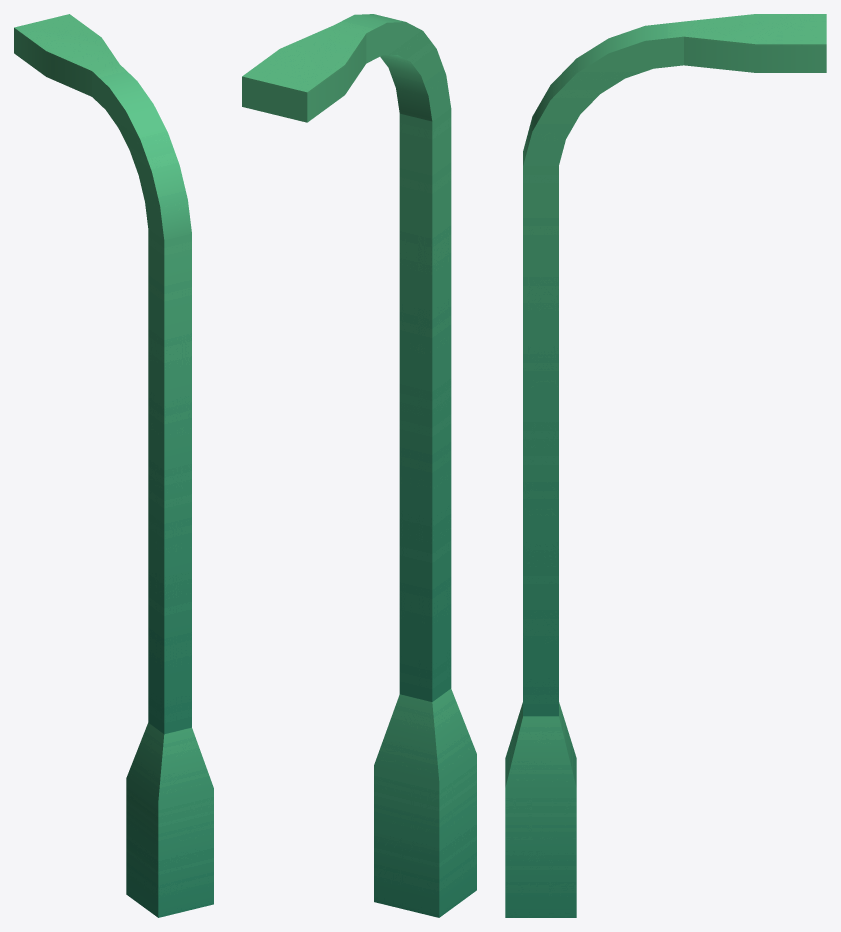
The model's file is light_curved.glb.
3 renders of one model, left to right at view 1: azimuth 30°, elevation 25°; view 2: azimuth 150°, elevation 25°; view 3: azimuth 270°, elevation 25°, orthographic. The views are drawn at different scales.
Parts seen in each view (by area): view 1: light-curved; view 2: light-curved; view 3: light-curved.
Boxes of the visible parts, <box> form: light-curved: <box>14,14,213,917</box>; light-curved: <box>242,14,476,917</box>; light-curved: <box>505,14,826,917</box>.
Bounding box in the file's own units: 0.05 × 0.675 × 0.225.
Materials: 1 (1 with a texture image).
